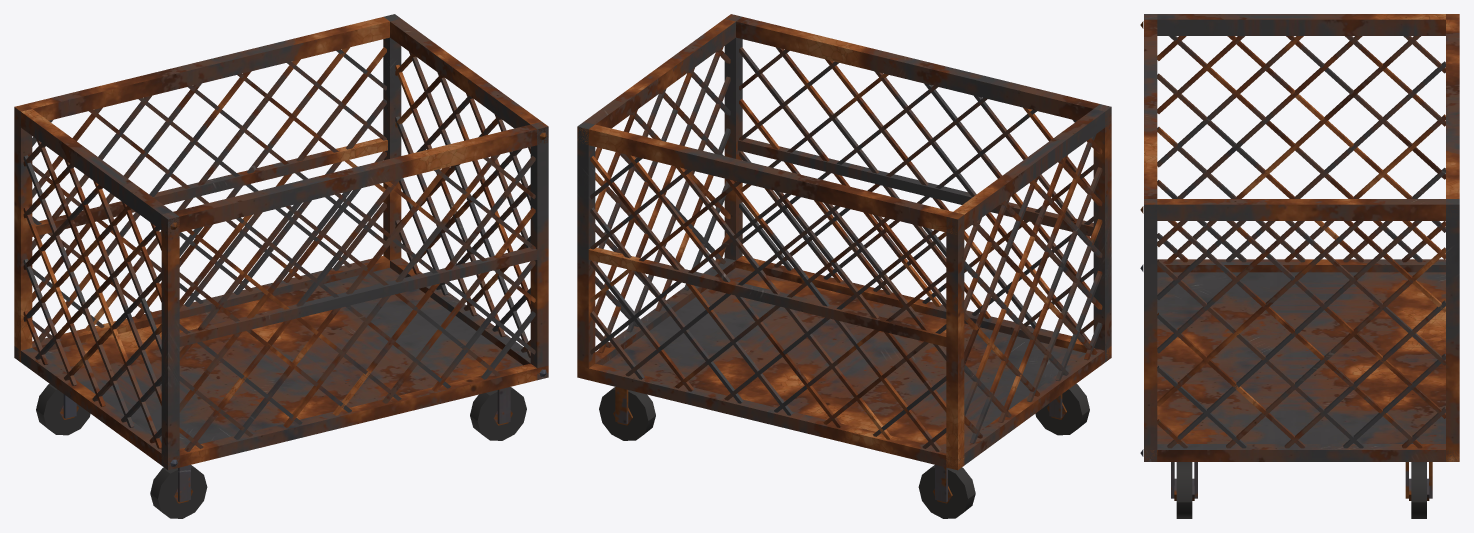
The model's file is Scrap_Basket.glb.
3 views of the same model, side by side, from view 1: azimuth 30°, elevation 25°; view 2: azimuth 150°, elevation 25°; view 3: azimuth 270°, elevation 25° (orthographic). The views are drawn at different scales.
Parts seen in each view (by area): view 1: Scrap_Basket; view 2: Scrap_Basket; view 3: Scrap_Basket.
Part boxes in pixels (box(x1,y1,x2,y2)): Scrap_Basket: box(14, 14, 548, 518); Scrap_Basket: box(577, 14, 1111, 518); Scrap_Basket: box(1140, 14, 1459, 518).
Size of the model in its own units: 1 by 0.8 by 0.708.
3 materials, 2 textured.
